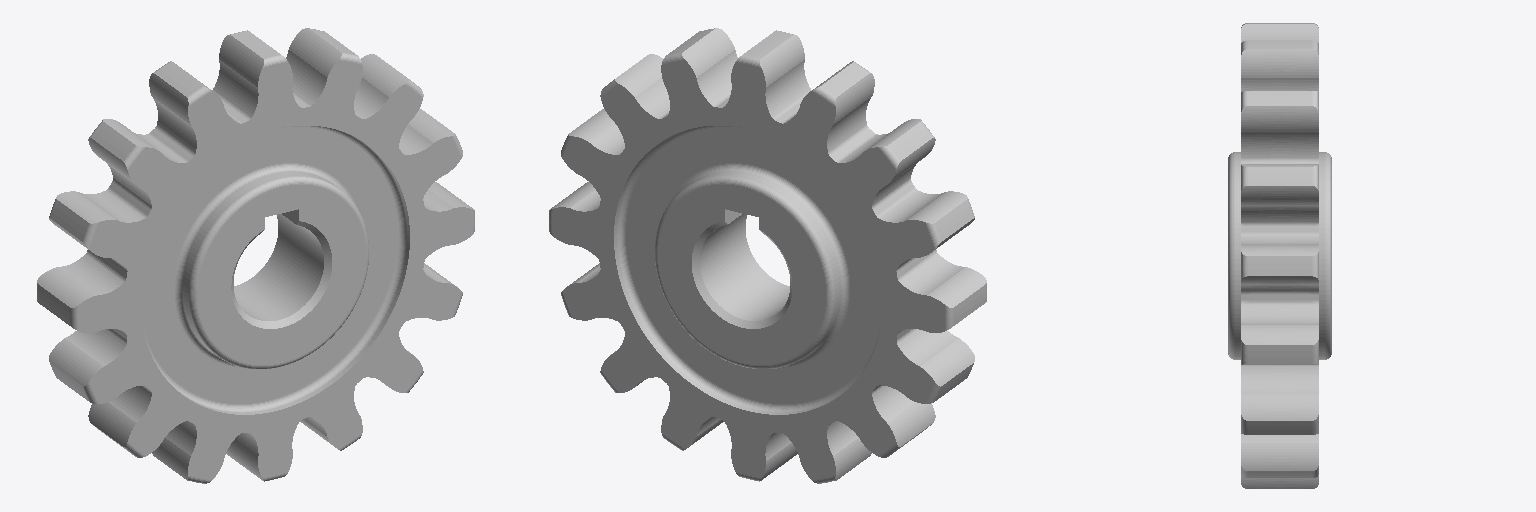
Rendered from cog.obj.
The picture shows the model from 3 angles: view 1: azimuth 30°, elevation 25°; view 2: azimuth 150°, elevation 25°; view 3: azimuth 270°, elevation 25°; orthographic projection.
Visible parts, largest first — view 1: Gear_Spur_16T_Keyway; view 2: Gear_Spur_16T_Keyway; view 3: Gear_Spur_16T_Keyway.
Boxes of the visible parts, <box> form: Gear_Spur_16T_Keyway: <box>37,28,474,483</box>; Gear_Spur_16T_Keyway: <box>549,28,986,483</box>; Gear_Spur_16T_Keyway: <box>1228,23,1331,488</box>.
Size of the model in its own units: 1.12 by 1.12 by 0.25.